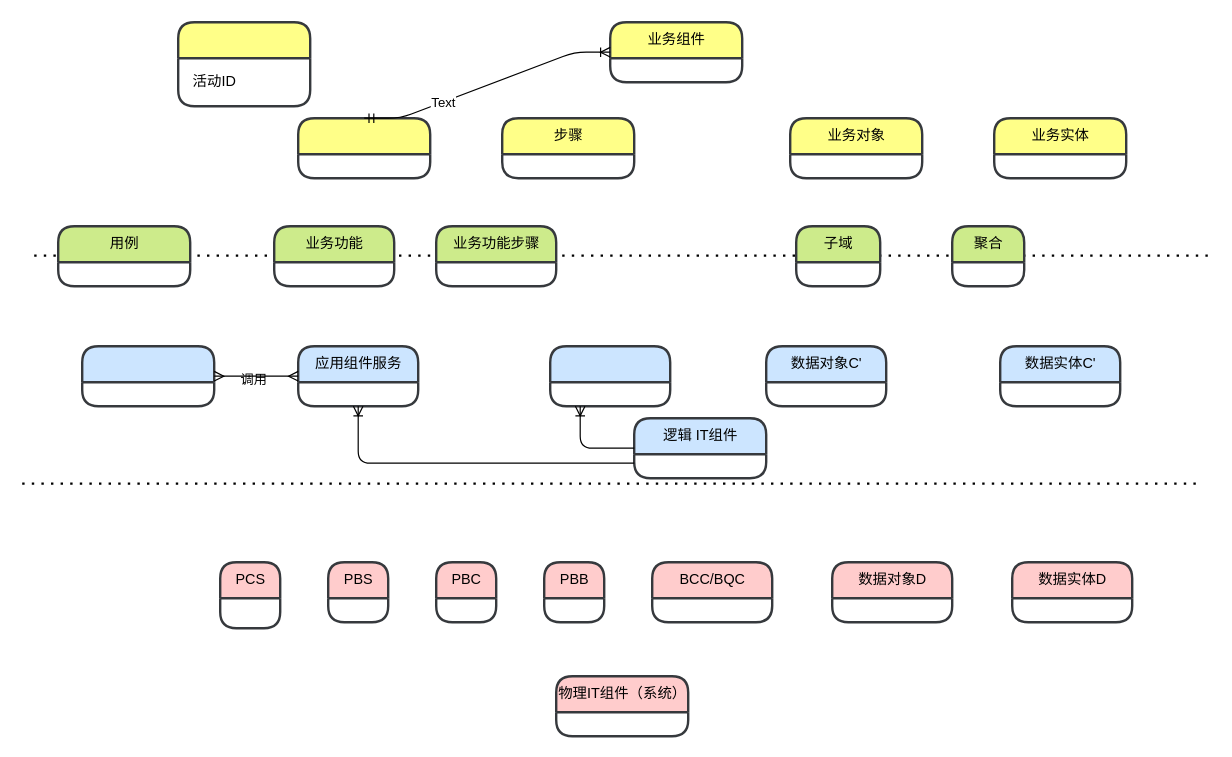
Image size: 1232x757. Some labels were removed from this diagram. Each missing label, with the box of its shape:
业务对象构件: (548, 344, 671, 407)
任务: (296, 116, 431, 179)
应用交易服务: (80, 344, 215, 407)
活动: (176, 20, 311, 107)
